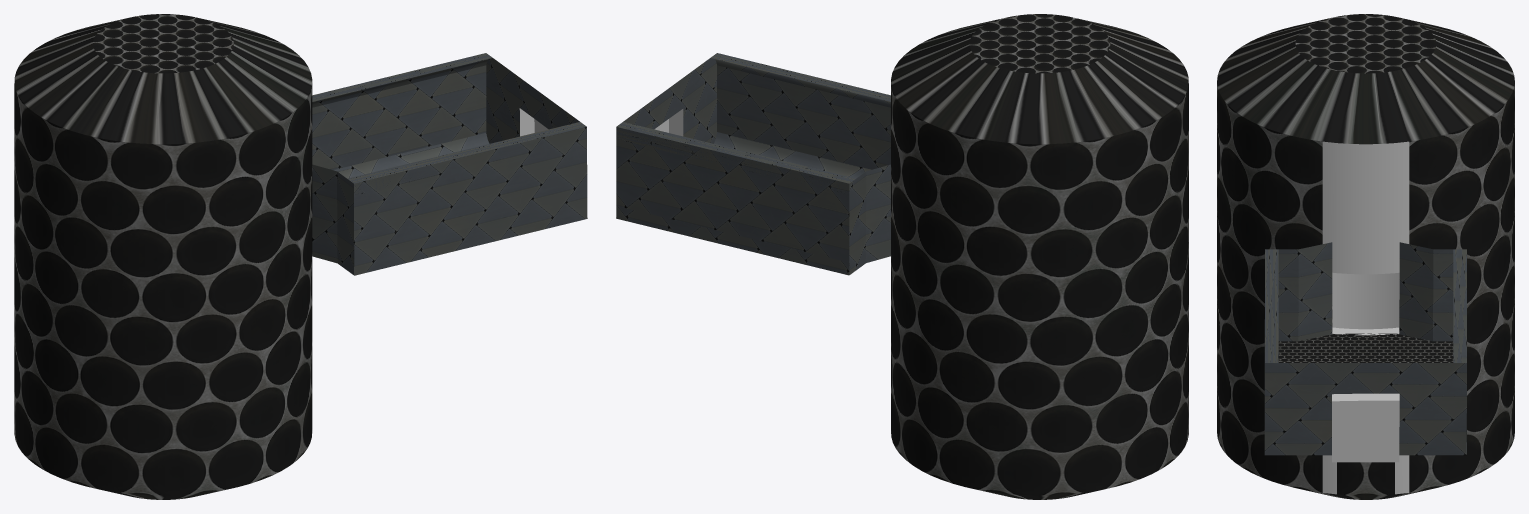
File: level_blockout.fbx
3 views of the same model, side by side, from view 1: azimuth 30°, elevation 25°; view 2: azimuth 150°, elevation 25°; view 3: azimuth 270°, elevation 25° (orthographic).
Parts seen in each view (by area): view 1: reactor_core; view 2: reactor_core; view 3: reactor_core.
Boxes of the visible parts, x1,y1,x2,y2 form: reactor_core: (14, 14, 587, 499); reactor_core: (616, 14, 1188, 499); reactor_core: (1217, 14, 1514, 499).
Size of the model in its own units: 1774 by 1398 by 885.
